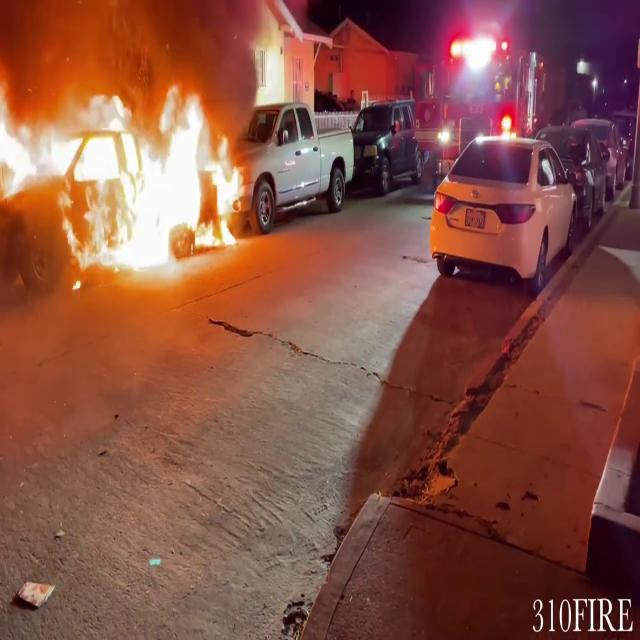Fire: (0, 57, 249, 278)
